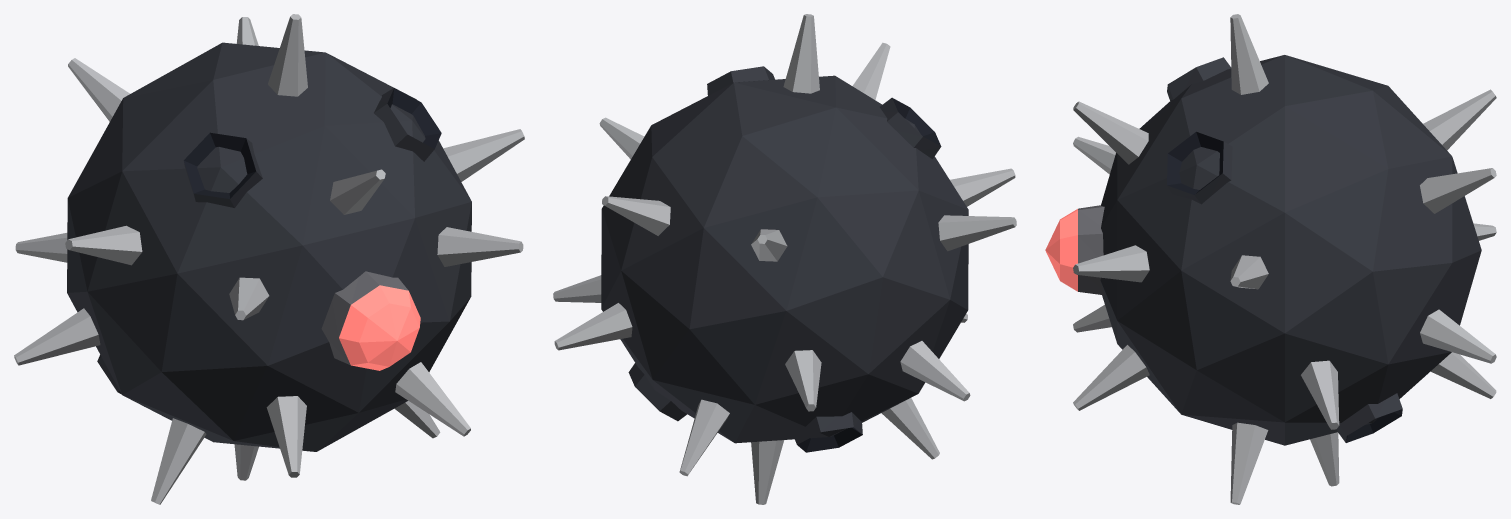
Rendered from space-mine.glb.
3 views of the same model, side by side, from view 1: azimuth 30°, elevation 25°; view 2: azimuth 150°, elevation 25°; view 3: azimuth 270°, elevation 25° (orthographic). The views are drawn at different scales.
Parts seen in each view (by area): view 1: space-mine, lens; view 2: space-mine; view 3: space-mine, lens.
Part boxes in pixels (box(x1,y1,x2,y2)): space-mine: box(14, 14, 524, 504); lens: box(339, 285, 420, 370); space-mine: box(553, 14, 1016, 504); space-mine: box(1073, 14, 1496, 504); lens: box(1045, 209, 1077, 291).
Bounding box in the file's own units: 1.51 × 1.58 × 1.38.
